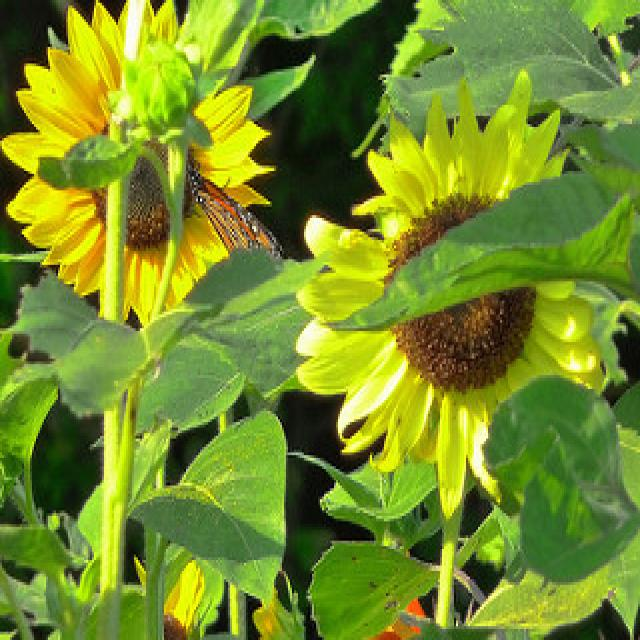sunflower: (298, 80, 606, 519), (4, 13, 268, 324)
